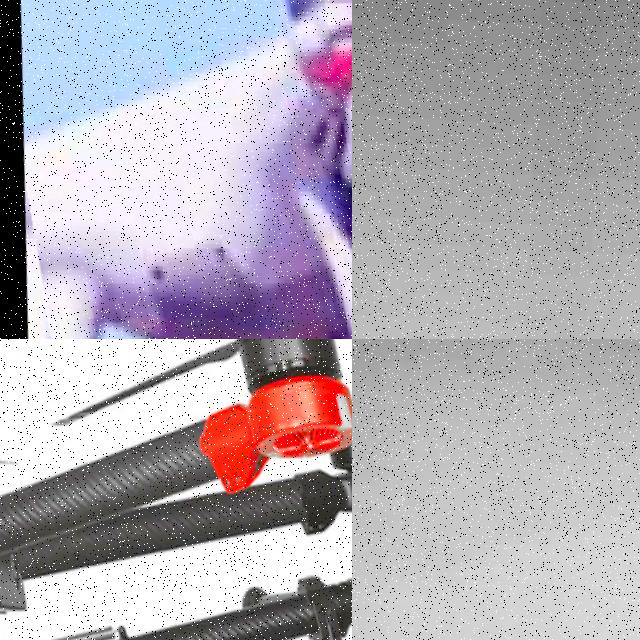drone: (0, 0, 352, 339), (0, 339, 352, 640)
